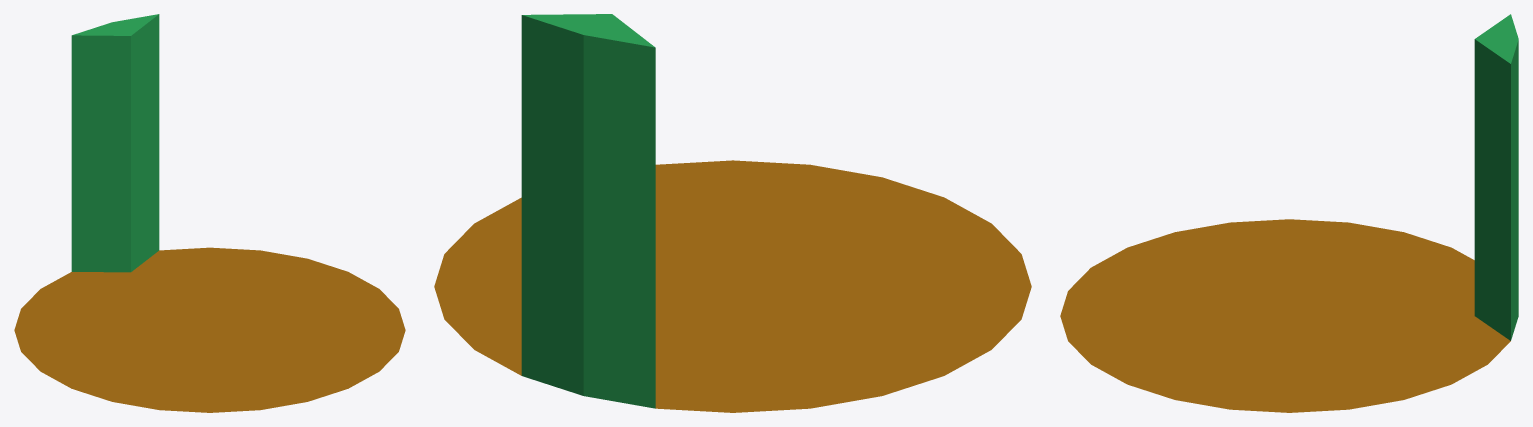
The model's file is platSpinny.fbx.
3 renders of one model, left to right at view 1: azimuth 30°, elevation 25°; view 2: azimuth 150°, elevation 25°; view 3: azimuth 270°, elevation 25°, orthographic. The views are drawn at different scales.
Visible parts, largest first — view 1: pDisc1; view 2: pDisc1; view 3: pDisc1.
Part boxes in pixels (<box>): pDisc1: <box>14,14,405,412</box>; pDisc1: <box>434,14,1031,412</box>; pDisc1: <box>1060,14,1518,412</box>.
Bounding box in the file's own units: 3 × 2 × 3.
